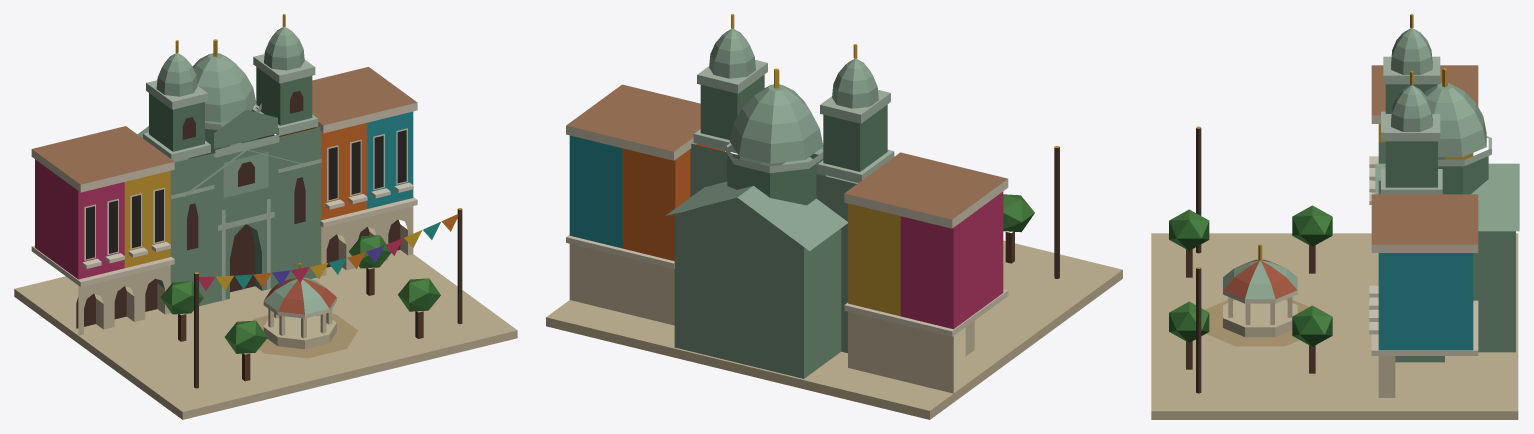
File: maisonsColorees.glb
3 renders of one model, left to right at view 1: azimuth 30°, elevation 25°; view 2: azimuth 150°, elevation 25°; view 3: azimuth 270°, elevation 25°, orthographic. The views are drawn at different scales.
Visible parts, largest first — view 1: maisonsColorees; view 2: maisonsColorees; view 3: maisonsColorees.
Boxes of the visible parts, x1,y1,x2,y2 form: maisonsColorees: [14, 14, 517, 419]; maisonsColorees: [546, 14, 1122, 419]; maisonsColorees: [1151, 14, 1519, 419].
Size of the model in its own units: 1.79 by 1.34 by 1.55.
